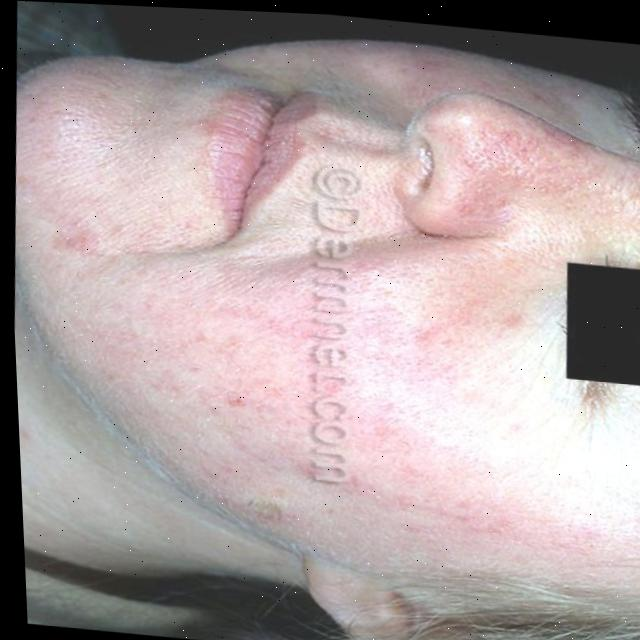Rosacea: (198, 222, 491, 571), (473, 100, 603, 177)
